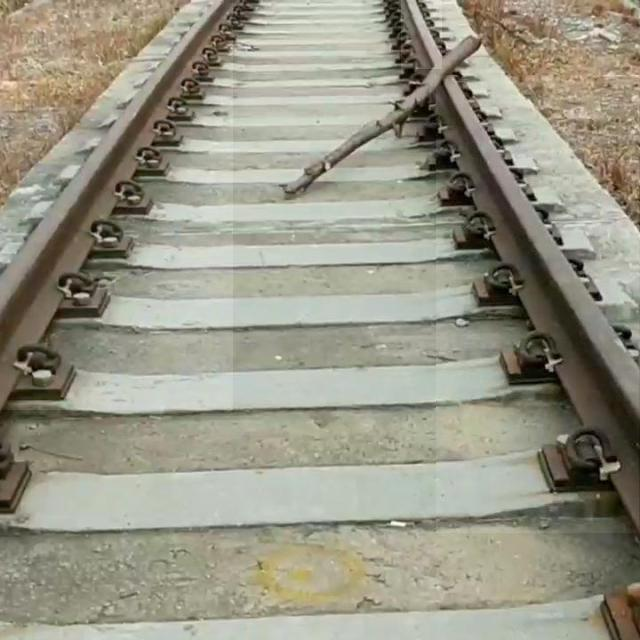rail: (2, 1, 234, 411), (438, 76, 640, 534), (402, 1, 443, 70)
